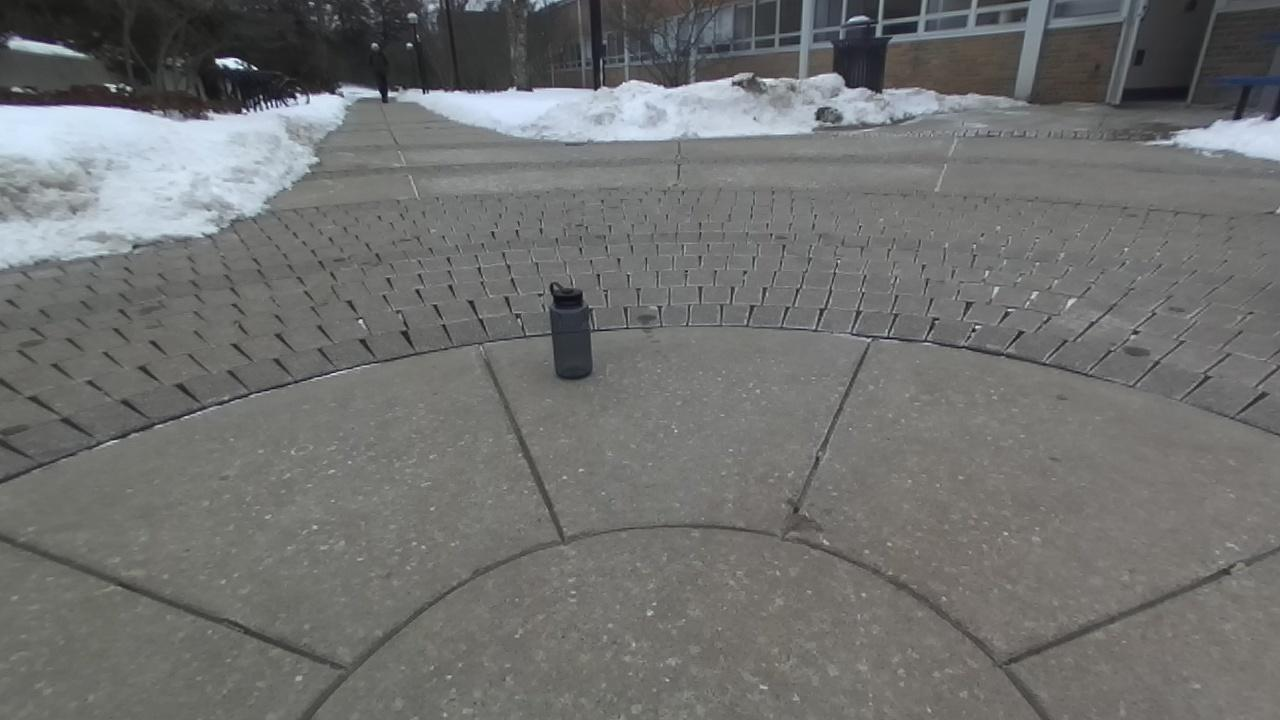bottle: (549, 282, 593, 378)
